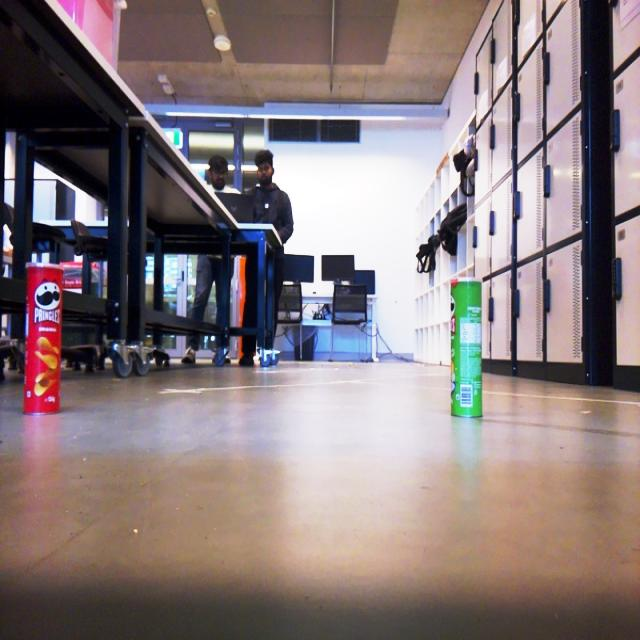greenpringles: (437, 266, 508, 447)
redpringles: (14, 250, 75, 425)
